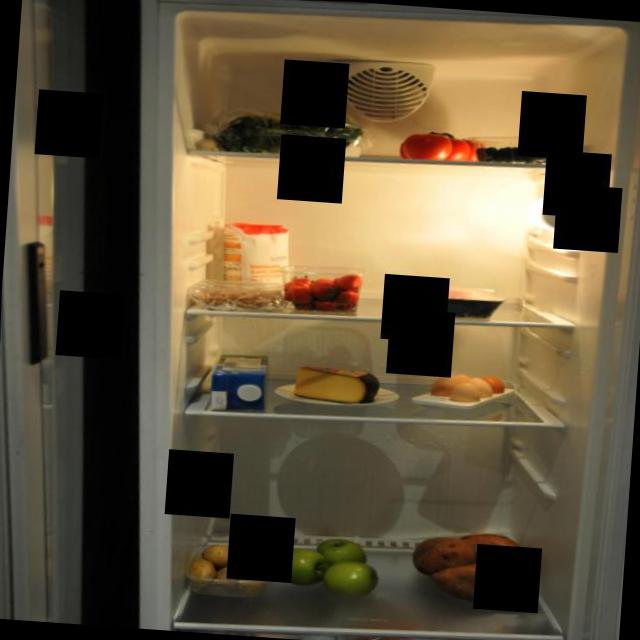Huevos: (422, 364, 507, 414)
Leche: (207, 346, 276, 414)
Manzana: (268, 530, 382, 606)
Patata: (178, 537, 276, 601)
Queso: (290, 359, 384, 406)
Tomate: (389, 120, 496, 168)
